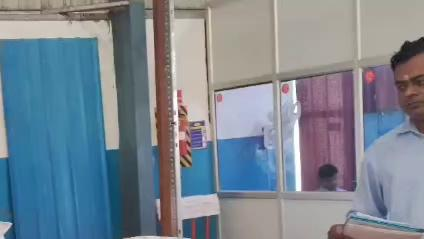box: (0, 220, 10, 239), (119, 236, 181, 239)
